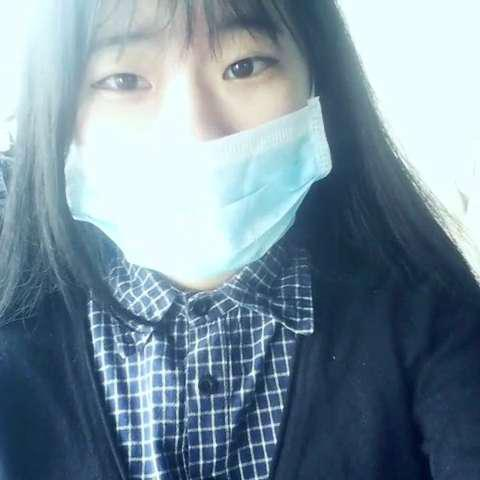WRONG: (69, 9, 309, 282)
